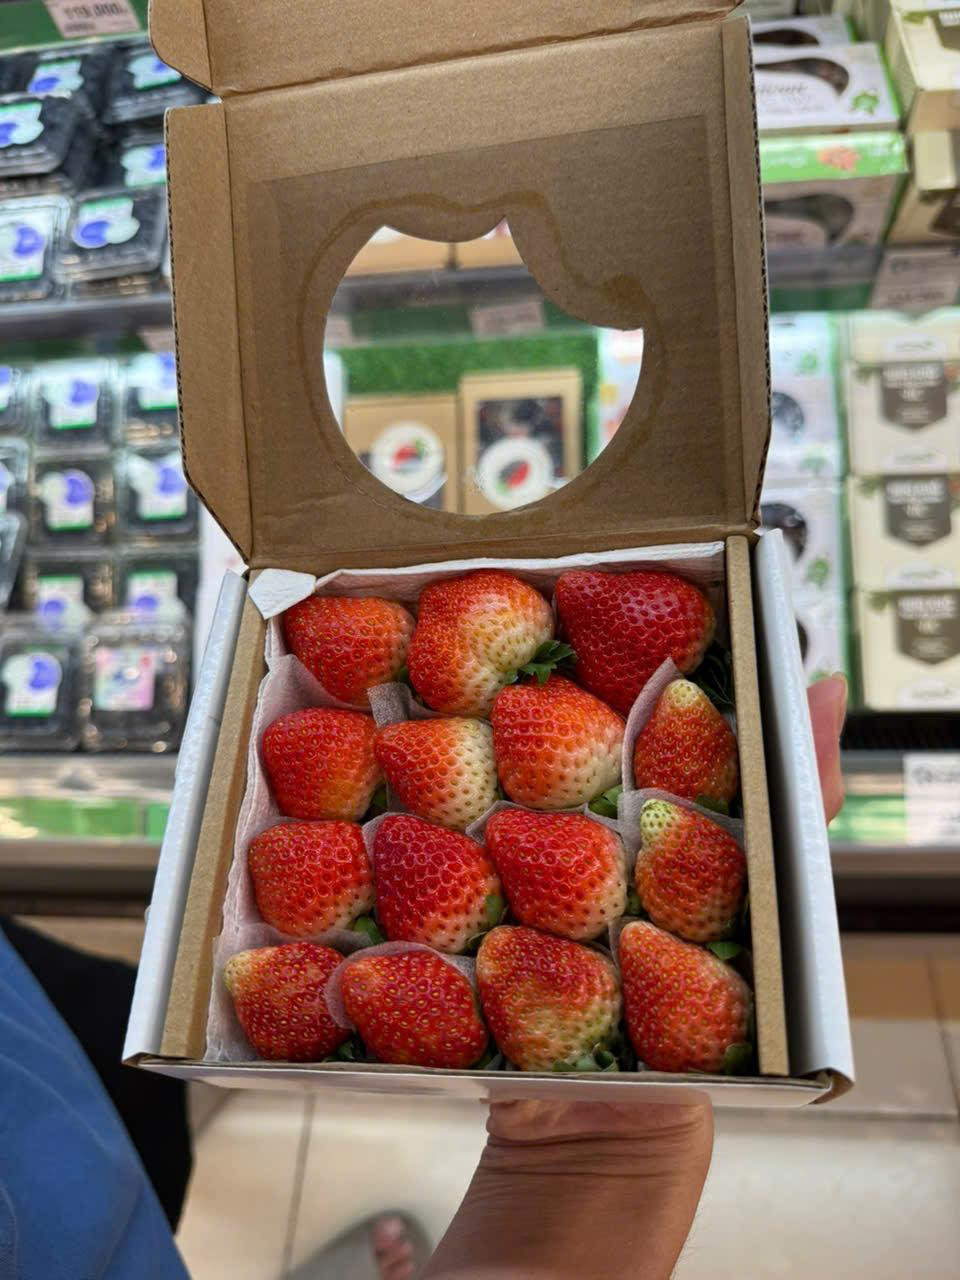strawberry: (468, 915, 630, 1079), (325, 925, 482, 1062), (560, 555, 720, 683), (473, 800, 634, 926), (402, 565, 560, 693), (615, 915, 752, 1058), (360, 805, 502, 936), (490, 673, 624, 807), (235, 813, 372, 938), (372, 688, 496, 825), (637, 795, 740, 932), (230, 925, 352, 1040), (260, 695, 374, 811), (627, 670, 726, 800), (292, 586, 404, 695)
